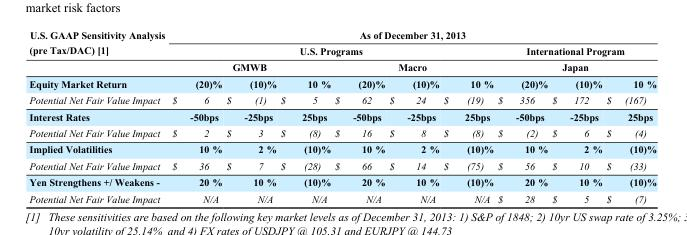table: (28, 28, 656, 203)
table column: (28, 28, 167, 203), (167, 28, 223, 203), (277, 28, 332, 203), (440, 28, 495, 203), (223, 28, 277, 203), (332, 28, 386, 203), (386, 28, 440, 203), (495, 28, 549, 203), (549, 28, 603, 203), (603, 28, 656, 203)
table column header: (28, 28, 656, 91)
table row: (28, 58, 656, 75), (28, 107, 656, 124), (28, 140, 656, 157), (28, 173, 656, 190), (28, 42, 656, 58), (28, 75, 656, 91), (28, 91, 656, 107), (28, 124, 656, 140), (28, 157, 656, 173), (28, 28, 656, 42), (28, 190, 656, 203)
table spanning cell: (28, 28, 167, 91), (167, 28, 656, 42), (495, 42, 656, 75), (167, 42, 495, 58), (167, 58, 332, 75), (332, 58, 495, 75)
